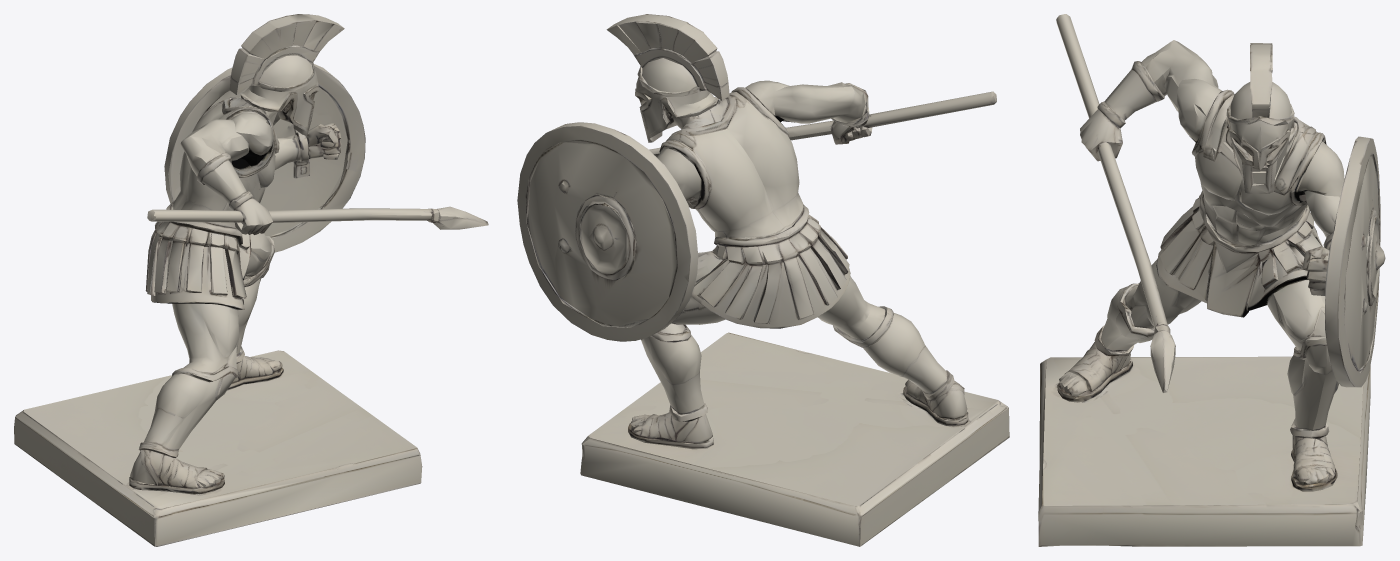
Rendered from statue_b.glb.
The picture shows the model from 3 angles, left to right: view 1: azimuth 30°, elevation 25°; view 2: azimuth 150°, elevation 25°; view 3: azimuth 270°, elevation 25°; orthographic projection. The views are drawn at different scales.
Visible parts, largest first — view 1: statue_b; view 2: statue_b; view 3: statue_b.
Part boxes in pixels (x1,y1,x2,y2): statue_b: [14, 14, 488, 546]; statue_b: [517, 14, 1009, 546]; statue_b: [1038, 14, 1385, 546].
Bounding box in the file's own units: 2.61 × 2.6 × 1.73.
Materials: 1 (1 with a texture image).
